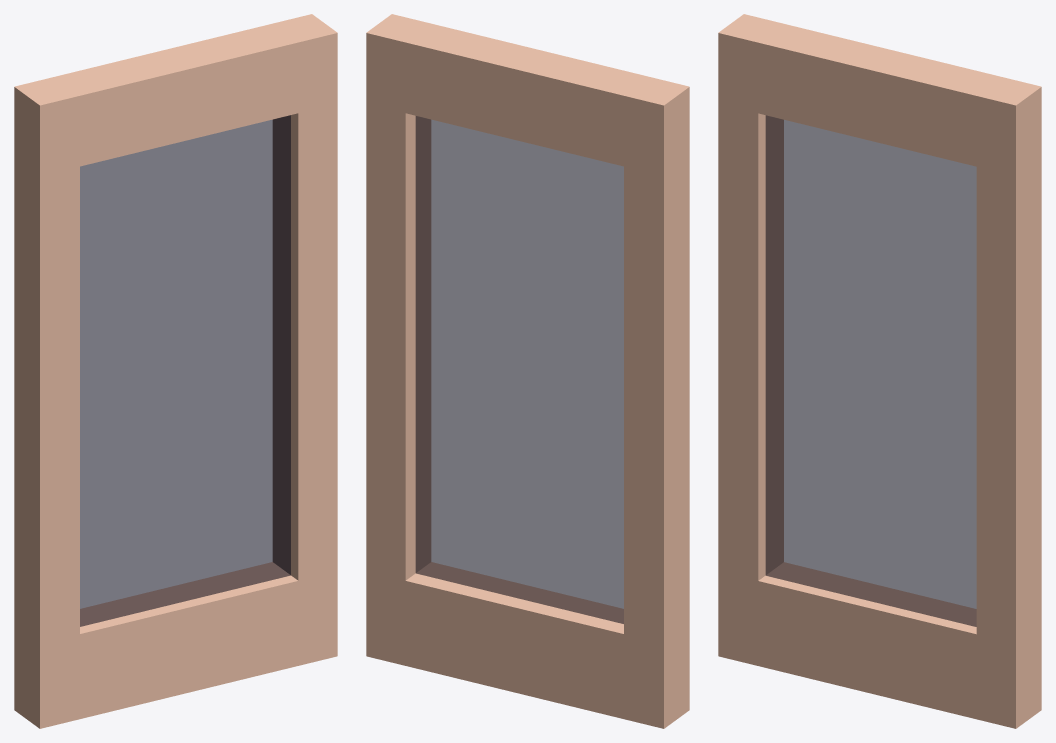
The model's file is MagnoliaWindowLarge.glb.
3 renders of one model, left to right at view 1: azimuth 30°, elevation 25°; view 2: azimuth 150°, elevation 25°; view 3: azimuth 330°, elevation 25°, orthographic.
Parts seen in each view (by area): view 1: wall_largeWindow_magnolia; view 2: wall_largeWindow_magnolia; view 3: wall_largeWindow_magnolia.
Boxes of the visible parts, x1=… form: wall_largeWindow_magnolia: x1=14, y1=14, x2=337, y2=728; wall_largeWindow_magnolia: x1=366, y1=14, x2=689, y2=728; wall_largeWindow_magnolia: x1=718, y1=14, x2=1041, y2=728.
Size of what is drawn, in the model's own units: 2 by 4 by 0.3.
Materials: 2 (2 with a texture image).
